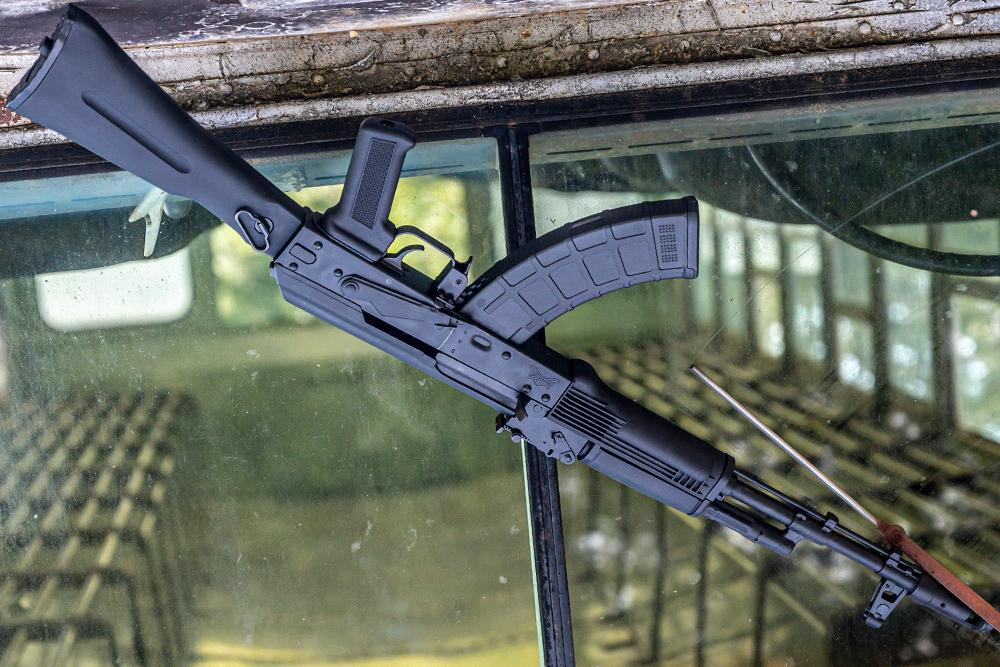larga: (2, 4, 978, 628)
